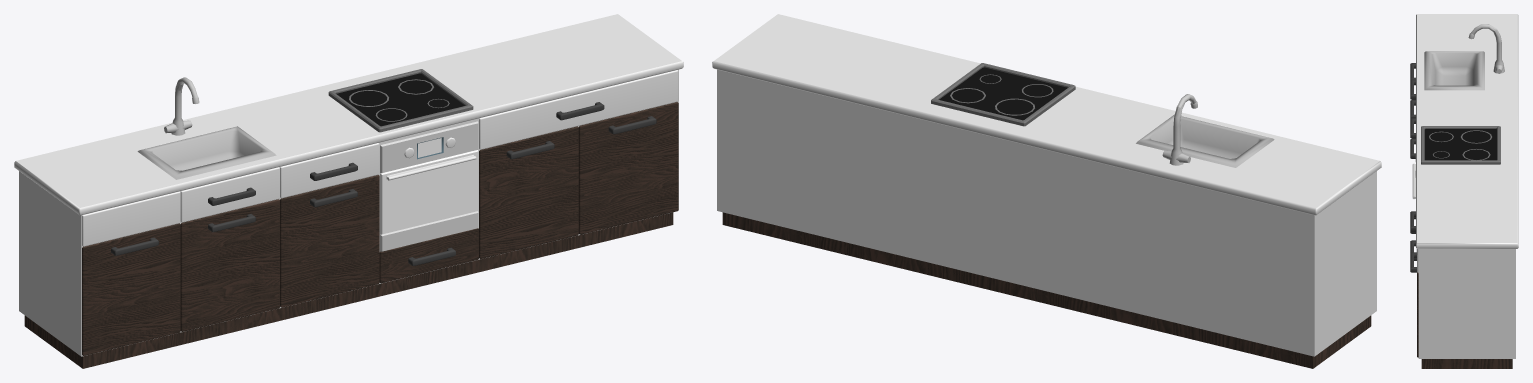
File: kitchen_053.fbx
The picture shows the model from 3 angles, left to right: view 1: azimuth 30°, elevation 25°; view 2: azimuth 150°, elevation 25°; view 3: azimuth 270°, elevation 25°; orthographic projection. The views are drawn at different scales.
Parts seen in each view (by area): view 1: kitchen_053; view 2: kitchen_053; view 3: kitchen_053.
Boxes of the visible parts, x1,y1,x2,y2 form: kitchen_053: [14, 14, 683, 368]; kitchen_053: [712, 14, 1381, 368]; kitchen_053: [1410, 14, 1518, 368].
Size of the model in its own units: 421 by 84.01 by 150.
